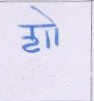o_matra: (46, 13, 62, 45)
